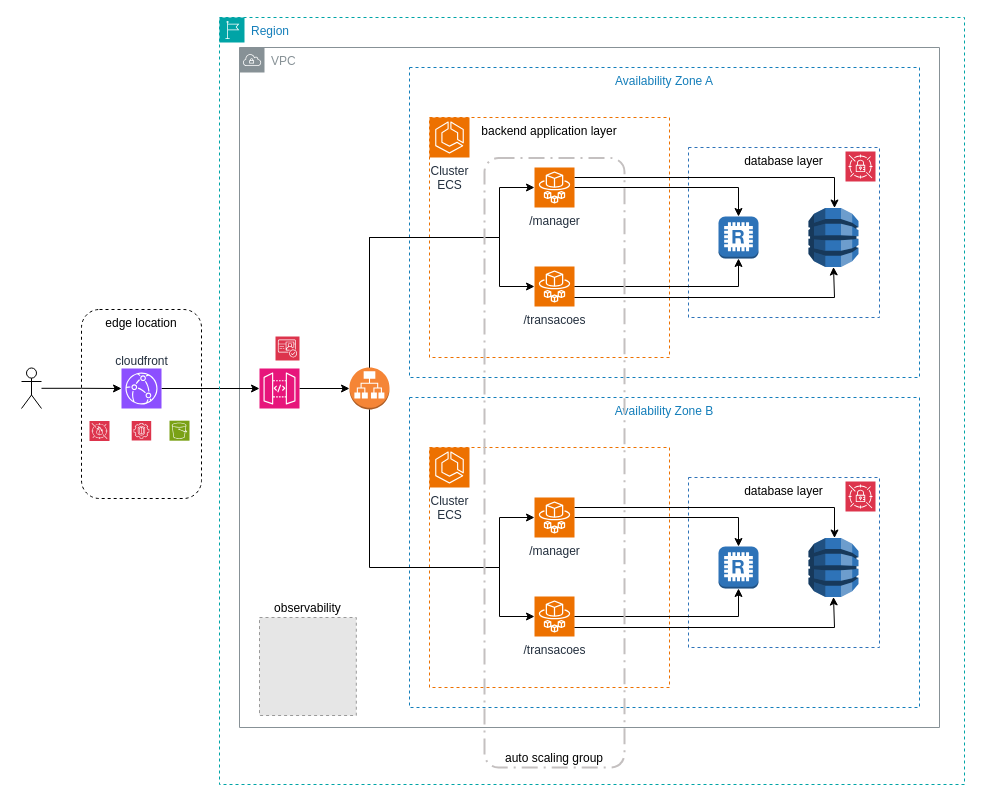
Image size: 982x802. Some labels were removed from this diagram. Grey dashed boxes stand in for pictures. The centre of each missing label's shape, as x and y in pixels:
/clientes: the point at 279,388
Actor: the point at 31,387
shield: the point at 141,430
static: the point at 179,430
waf: the point at 99,430
